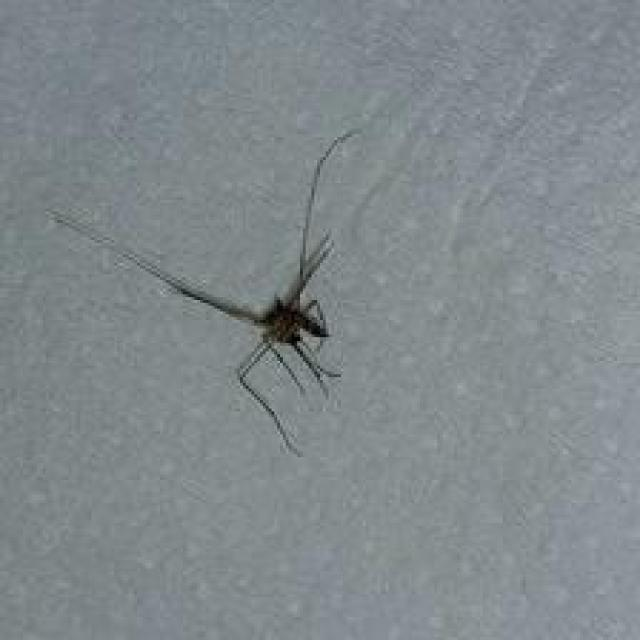Culex: (46, 127, 363, 459)
